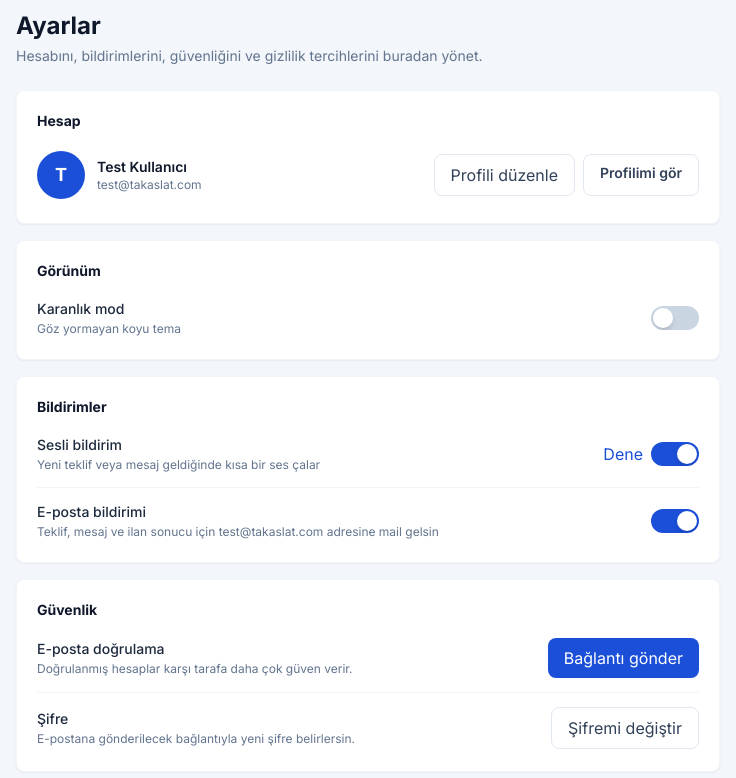
Scenario: Ayarlar — şifre değiştirme › bağlantıyı kullanıcının kendi e-postasına gönderir
Click the button "Şifremi değiştir" at (625, 728), box x1=551 y1=707 x2=699 y2=749
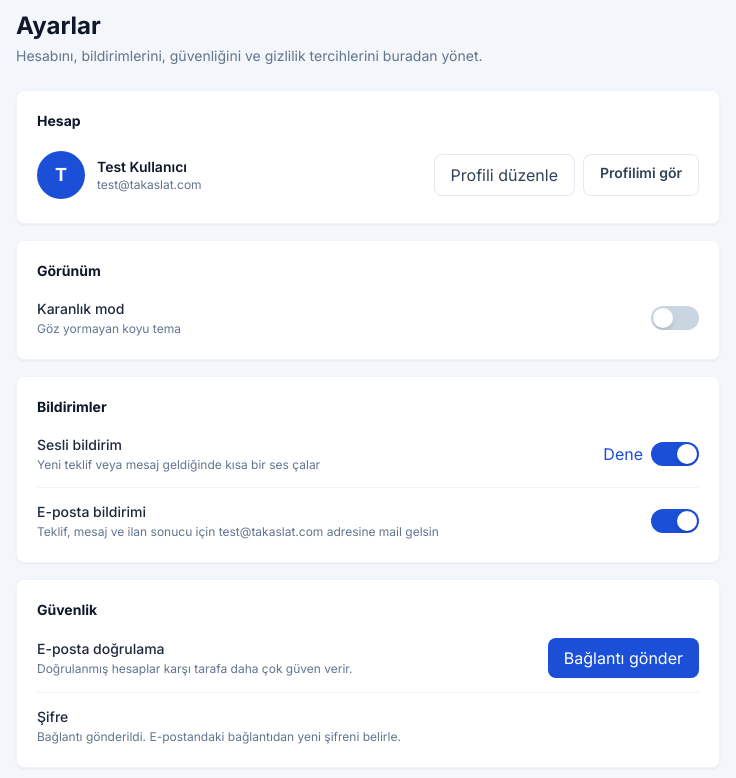
Now the text "Bağlantı gönderildi" is shown, box x1=37 y1=729 x2=401 y2=744
